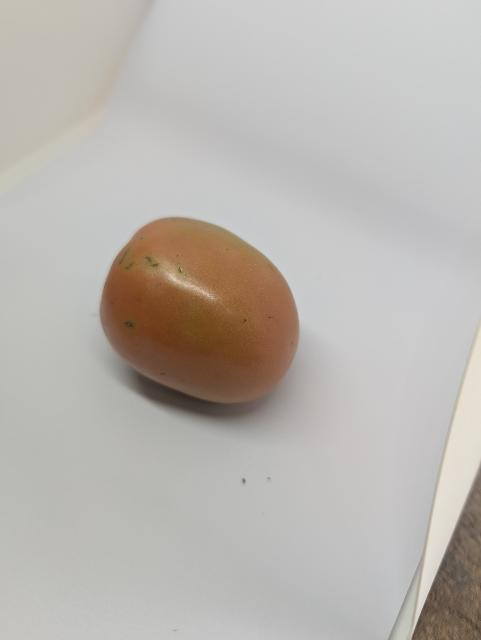turning: (96, 209, 305, 407)
